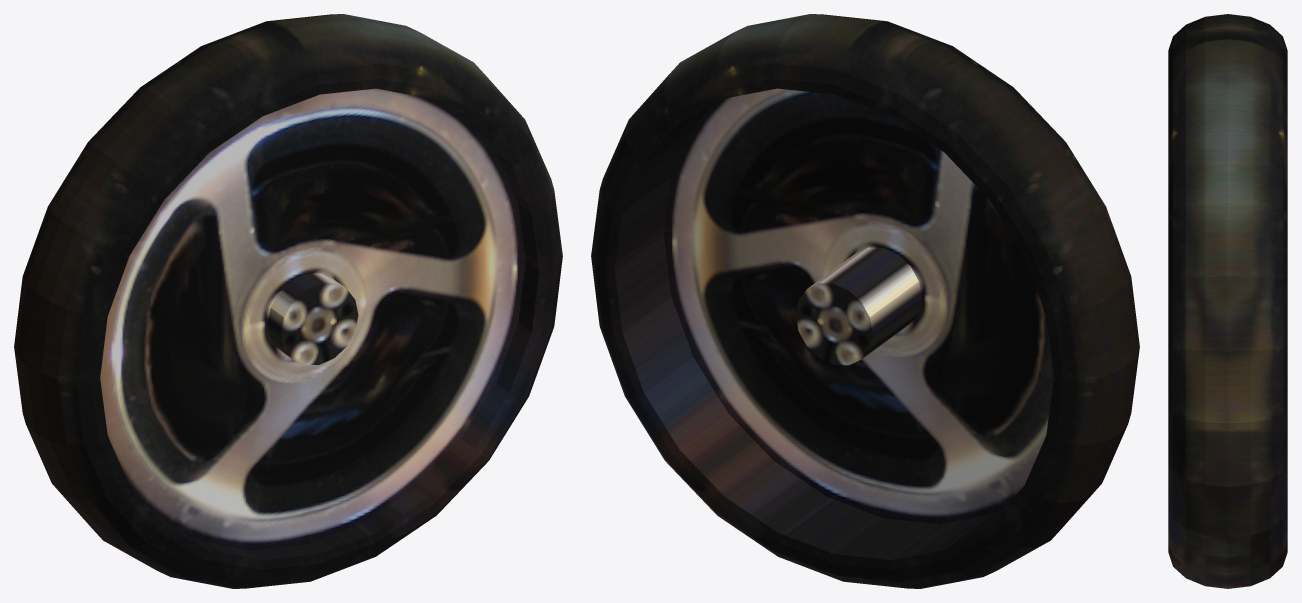
The model's file is kurt_wheel_indoor.dae.
3 views of the same model, side by side, from view 1: azimuth 30°, elevation 25°; view 2: azimuth 150°, elevation 25°; view 3: azimuth 270°, elevation 25° (orthographic). The views are drawn at different scales.
Parts seen in each view (by area): view 1: Simple_Tire; view 2: Simple_Tire; view 3: Simple_Tire.
Boxes of the visible parts, box(x1,y1,x2,y2) form: Simple_Tire: box(14, 14, 562, 588); Simple_Tire: box(591, 14, 1139, 588); Simple_Tire: box(1168, 14, 1287, 588).
Bounding box in the file's own units: 33.9 × 7 × 33.9.
Materials: 1 (1 with a texture image).
